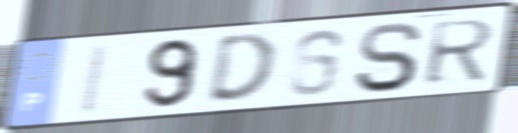6: (286, 27, 345, 99)
9: (141, 35, 202, 113)
D: (202, 30, 280, 106)
I: (78, 42, 112, 117)
R: (421, 16, 499, 89)
S: (351, 19, 426, 95)
